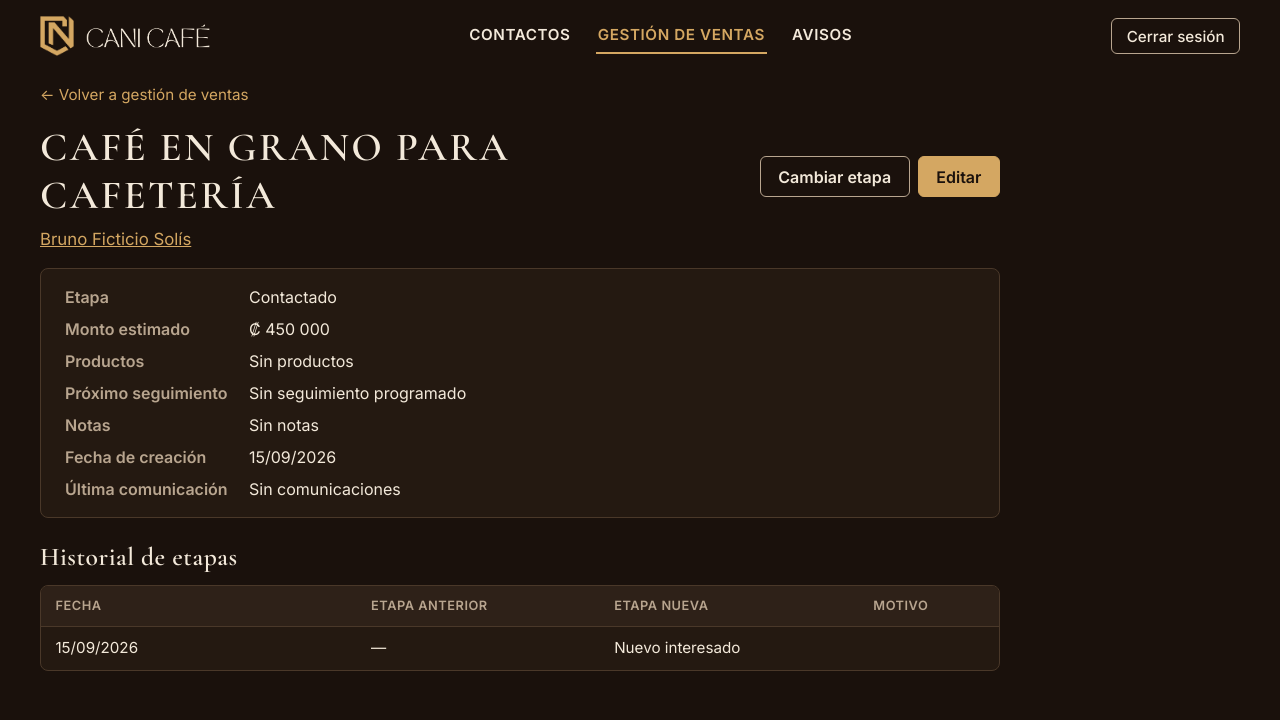
Test case: HU-310 ventana "Cambiar etapa" › "Guardar" está apagado mientras no se elija una etapa distinta
Click the button "Cambiar etapa": (835, 177) x1=760 y1=156 x2=910 y2=197
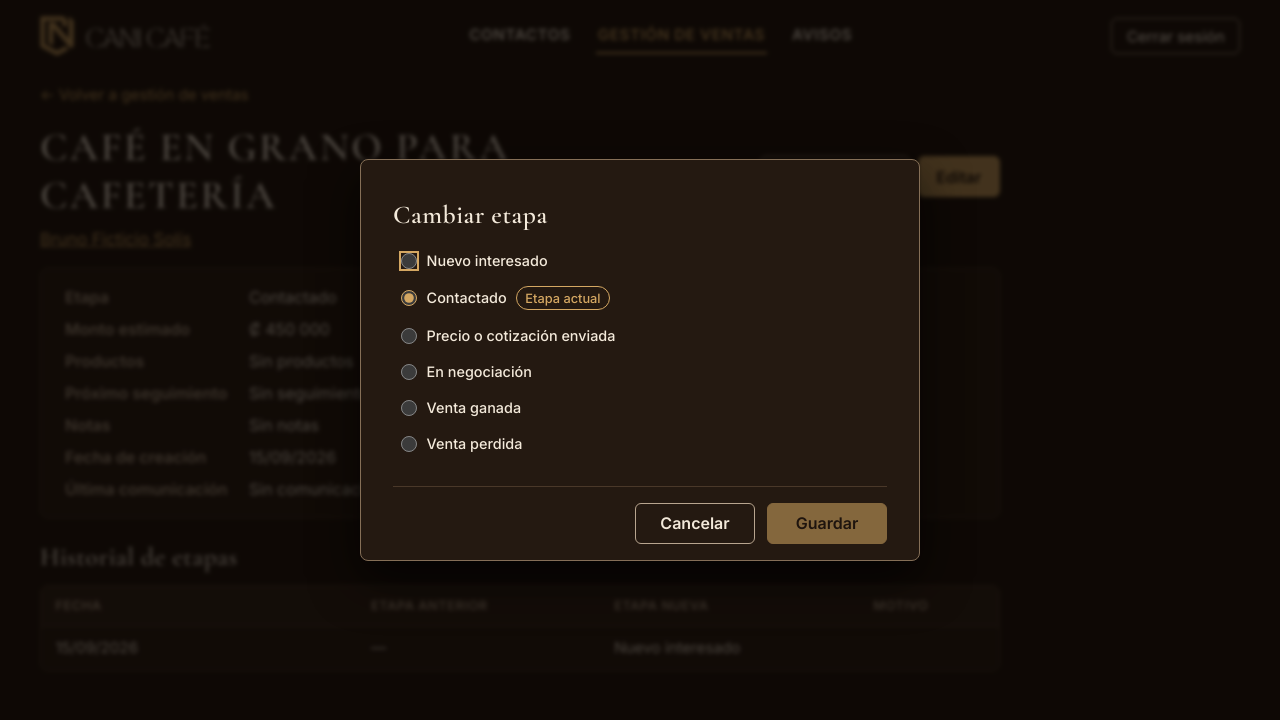
Result: the button "Guardar" is disabled at x1=767 y1=503 x2=887 y2=544
Click the radio button labelled "En negociación": (409, 372) x1=401 y1=364 x2=417 y2=380
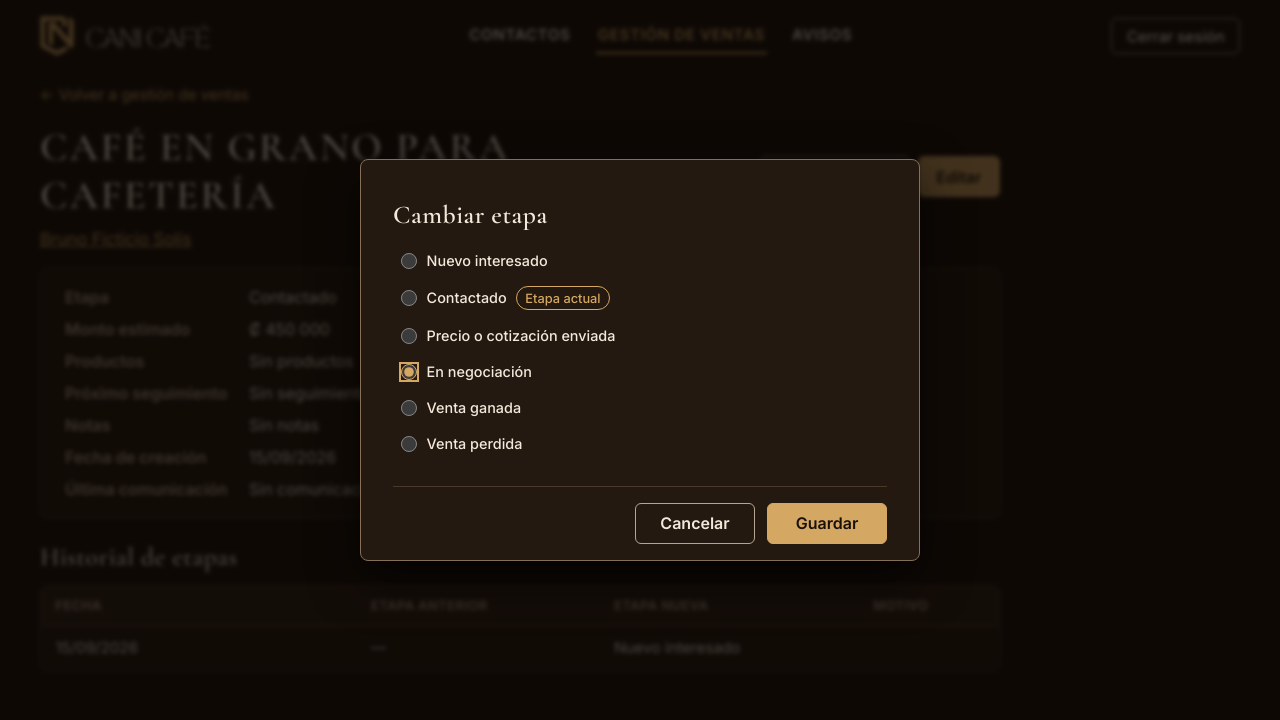
Result: the button "Guardar" is enabled at x1=767 y1=503 x2=887 y2=544
Click the radio button labelled "Contactado Etapa actual": (409, 298) x1=401 y1=290 x2=417 y2=306
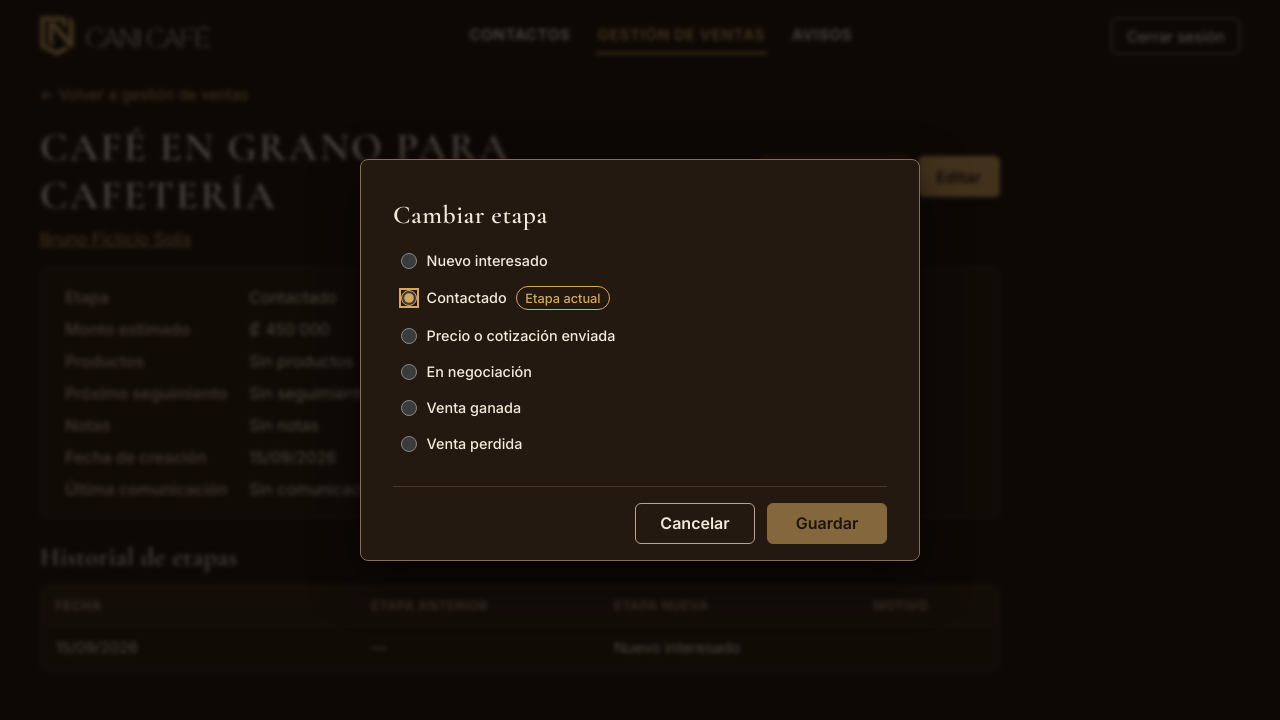
Result: the button "Guardar" is disabled at x1=767 y1=503 x2=887 y2=544
